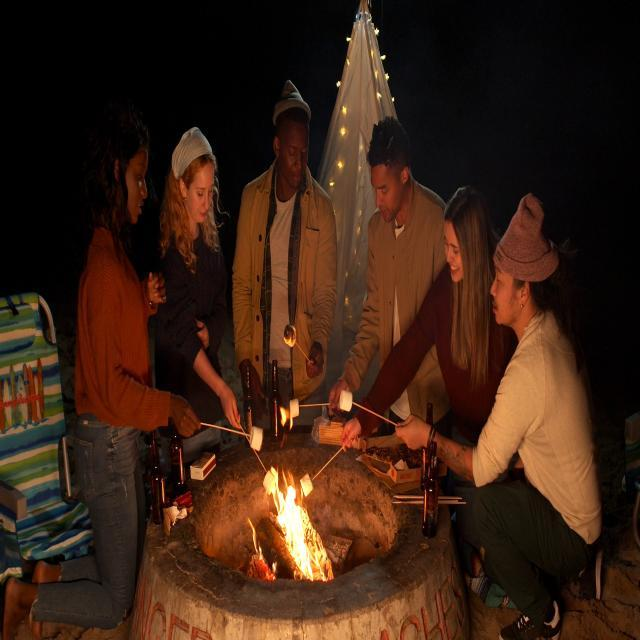Fire: (270, 463, 330, 585)
